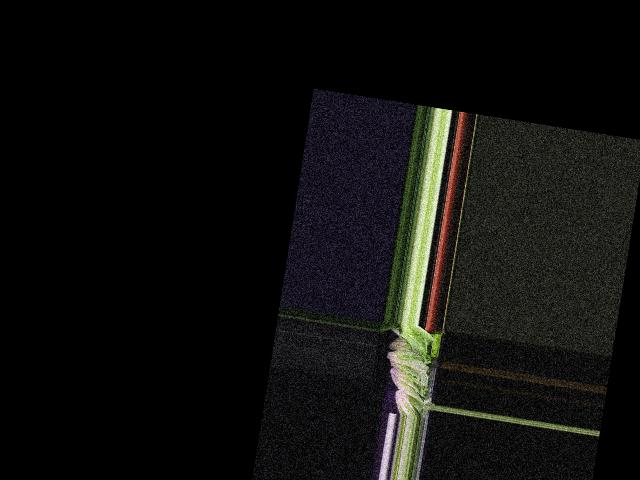lettuce: (391, 386, 423, 418)
